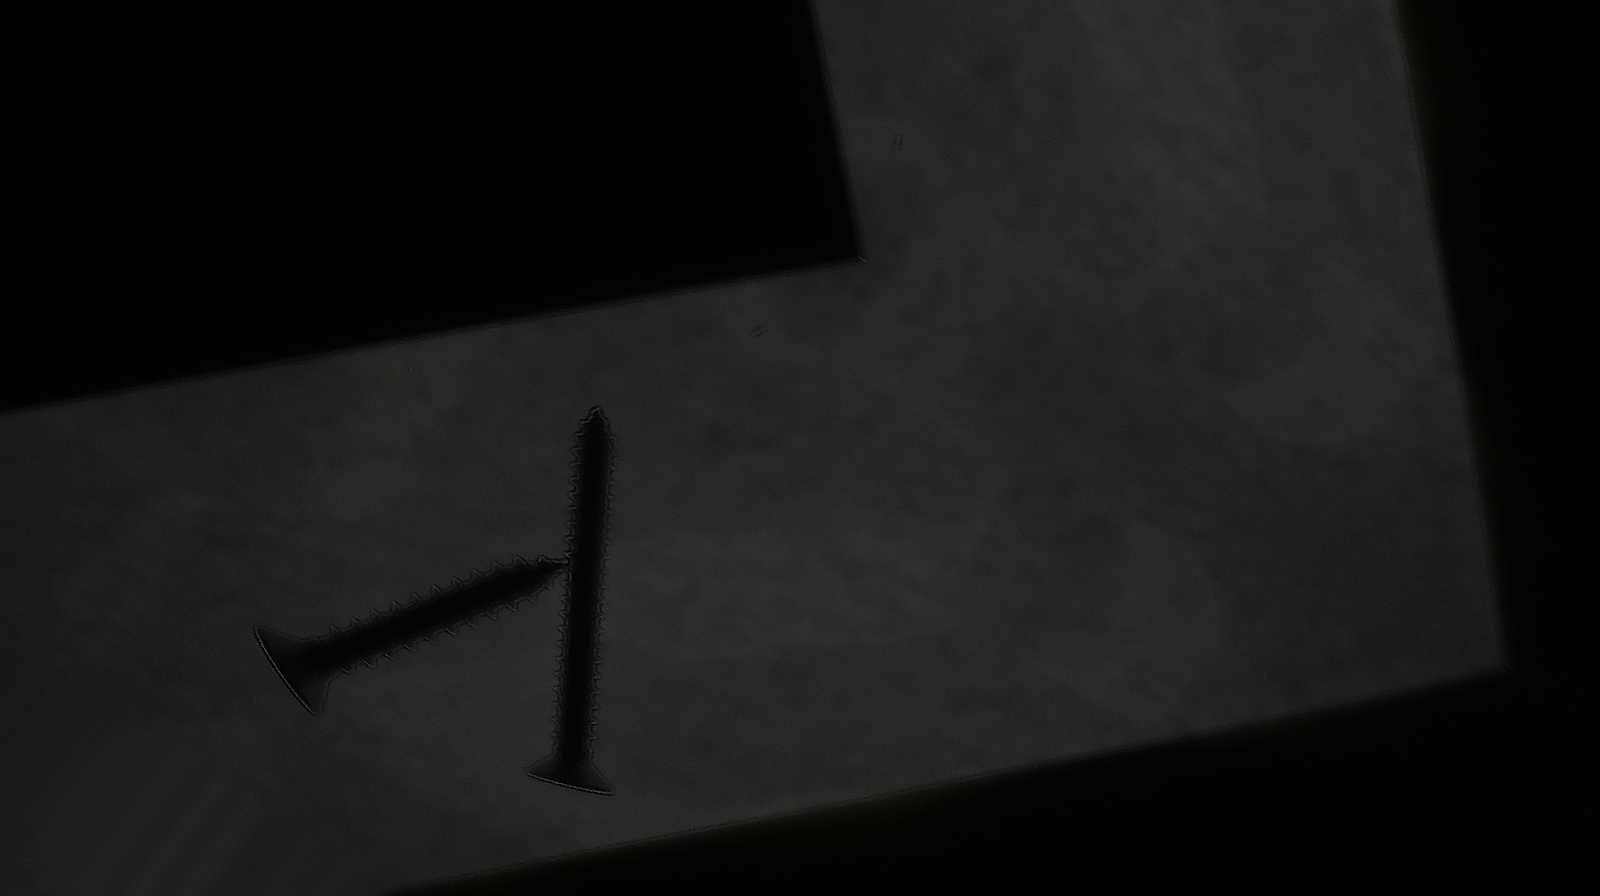S001: (222, 440, 576, 779)
S002: (388, 401, 805, 819)
